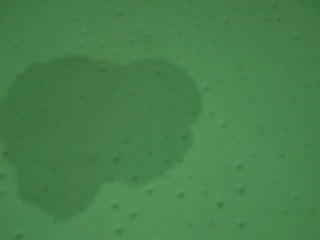Water_detected: (36, 75, 180, 197)
